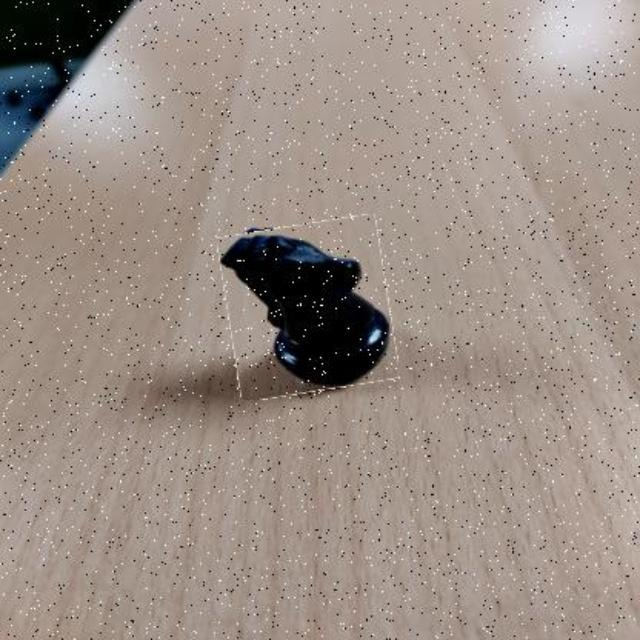black-knight: (222, 220, 394, 396)
